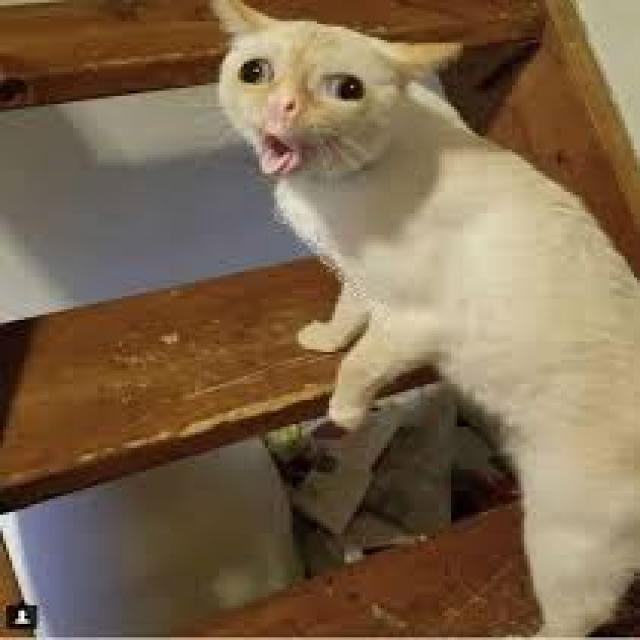cat: (204, 2, 640, 640)
